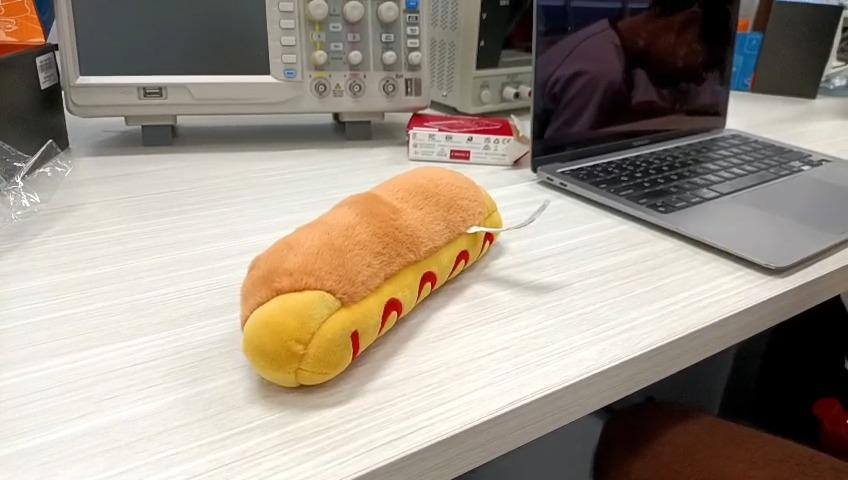hotdog: (241, 166, 503, 387)
